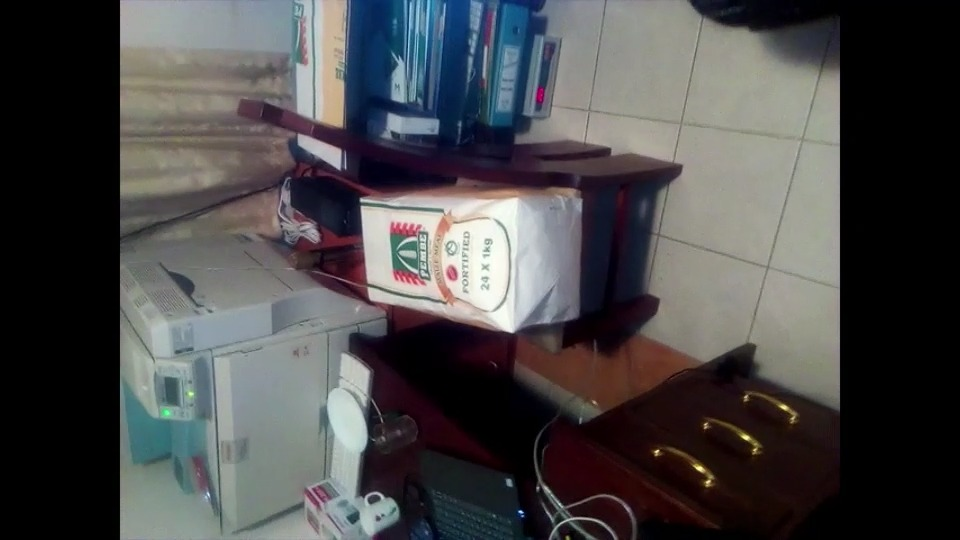maize_flour_green_label: (358, 189, 581, 337)
